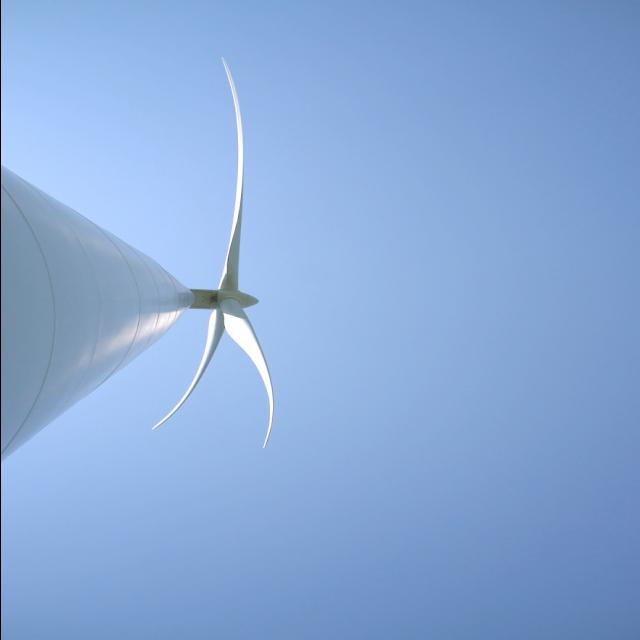blade 1: (202, 34, 258, 280)
blade 2: (230, 356, 290, 544)
blade 3: (130, 349, 222, 444)
